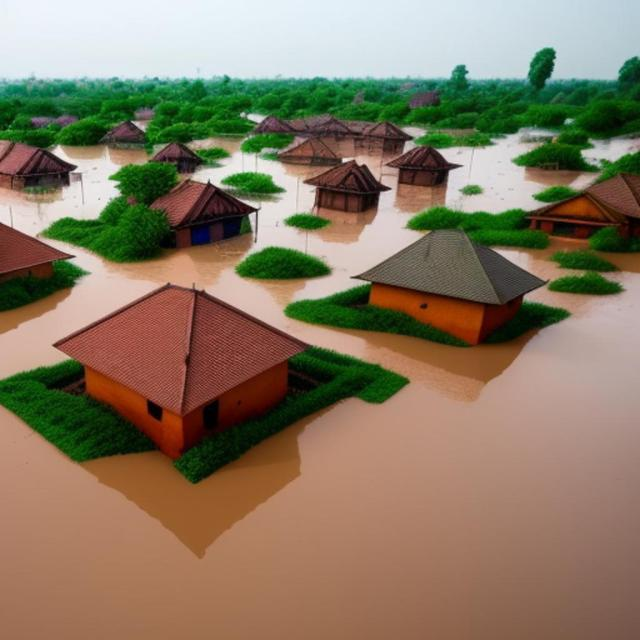flood: (0, 130, 640, 640), (0, 145, 151, 236), (189, 136, 276, 185), (583, 136, 640, 165), (279, 136, 308, 152), (246, 112, 266, 123)
house: (49, 272, 294, 457), (362, 231, 546, 357), (532, 172, 640, 250), (152, 174, 252, 255), (0, 216, 79, 298), (1, 138, 75, 202), (306, 158, 392, 213), (388, 143, 458, 188), (148, 138, 205, 172), (280, 136, 342, 166), (360, 117, 412, 148), (304, 112, 356, 140), (104, 118, 148, 146), (251, 112, 295, 134)
